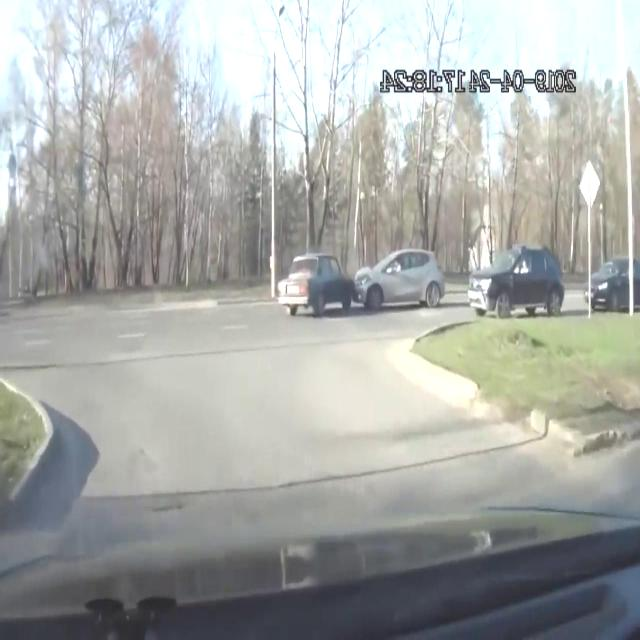accident: (276, 244, 444, 320)
non-accident: (468, 242, 640, 316)
